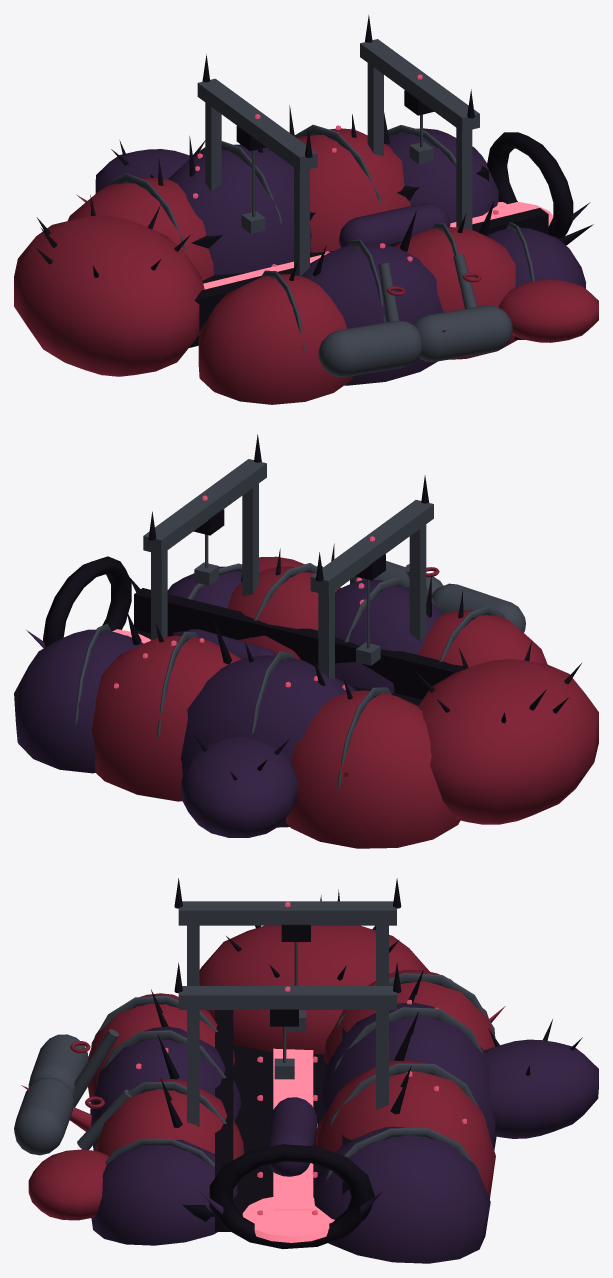
The model's file is foundry-directorate.glb.
3 views of the same model, one above another, from view 1: azimuth 30°, elevation 25°; view 2: azimuth 150°, elevation 25°; view 3: azimuth 270°, elevation 25° (orthographic). The views are drawn at different scales.
Parts seen in each view (by area): view 1: stern_carapace, tergite_starboard_0, tergite_port_1, tergite_starboard_1, tergite_port_2, tergite_starboard_2, tergite_port_0, outrigger_pod_small, tergite_port_3, ballast_tank_0, ballast_tank_1, launch_mouth (+19 smaller); view 2: stern_carapace, tergite_port_0, tergite_port_2, tergite_port_1, tergite_port_3, outrigger_pod_big, bay_lip_starboard, tergite_starboard_1, tergite_starboard_0, tergite_starboard_2, gantry_beam_1, gantry_beam_0 (+16 smaller); view 3: tergite_port_3, stern_carapace, tergite_starboard_3, tergite_port_2, outrigger_pod_big, tergite_port_1, launch_mouth, tergite_starboard_2, bay_floor, gantry_beam_0, gantry_beam_1, tergite_starboard_1 (+25 smaller).
Boxes of the visible parts, left/top/right/bottom form: stern_carapace: left=14, top=216, right=204, bottom=376; tergite_starboard_0: left=198, top=274, right=352, bottom=404; tergite_port_1: left=168, top=144, right=311, bottom=275; tergite_starboard_1: left=301, top=243, right=443, bottom=385; tergite_port_2: left=297, top=128, right=410, bottom=252; tergite_starboard_2: left=393, top=227, right=516, bottom=359; tergite_port_0: left=67, top=177, right=213, bottom=280; outrigger_pod_small: left=498, top=279, right=598, bottom=342; tergite_port_3: left=385, top=128, right=498, bottom=223; ballast_tank_0: left=318, top=321, right=421, bottom=377; ballast_tank_1: left=413, top=305, right=512, bottom=361; launch_mouth: left=487, top=132, right=573, bottom=238; stern_carapace: left=418, top=659, right=598, bottom=824; tergite_port_0: left=286, top=690, right=460, bottom=848; tergite_port_2: left=91, top=635, right=241, bottom=801; tergite_port_1: left=180, top=655, right=355, bottom=827; tergite_port_3: left=14, top=629, right=143, bottom=773; outrigger_pod_big: left=181, top=736, right=297, bottom=837; bay_lip_starboard: left=134, top=588, right=463, bottom=699; tergite_starboard_1: left=335, top=580, right=443, bottom=692; tergite_starboard_0: left=419, top=610, right=547, bottom=667; tergite_starboard_2: left=227, top=566, right=340, bottom=659; gantry_beam_1: left=143, top=459, right=266, bottom=554; gantry_beam_0: left=310, top=500, right=433, bottom=595; tergite_port_3: left=313, top=1126, right=490, bottom=1263; stern_carapace: left=199, top=925, right=429, bottom=1054; tergite_starboard_3: left=91, top=1139, right=237, bottom=1245; tergite_port_2: left=315, top=1060, right=495, bottom=1199; outrigger_pod_big: left=483, top=1039, right=598, bottom=1138; tergite_port_1: left=320, top=1003, right=496, bottom=1150; launch_mouth: left=209, top=1144, right=374, bottom=1248; tergite_starboard_2: left=95, top=1079, right=244, bottom=1159; bay_floor: left=233, top=1044, right=326, bottom=1216; gantry_beam_0: left=178, top=901, right=396, bottom=925; gantry_beam_1: left=178, top=986, right=396, bottom=1009; tergite_starboard_1: left=90, top=1026, right=240, bottom=1150.
Bounding box in the file's own units: 315 × 147 × 295.
